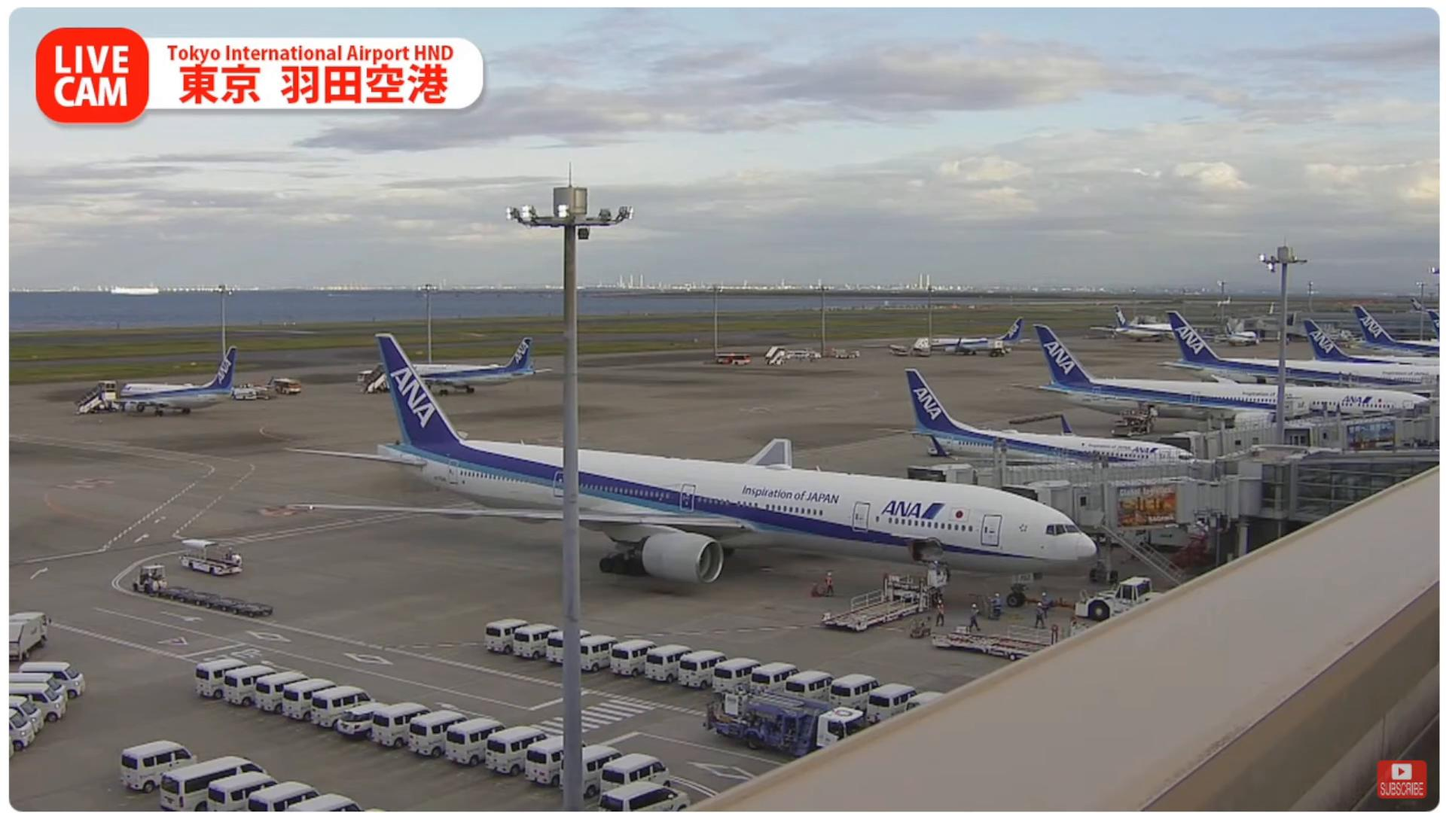APS: (1079, 573, 1169, 620)
Aerobridge: (937, 438, 1217, 490), (1025, 480, 1229, 535)
Airplane: (279, 328, 1098, 610)
Dolly: (154, 584, 285, 623)
JCPL: (821, 558, 944, 631), (944, 622, 1066, 653)
Skyloader: (173, 537, 252, 573)
Tractor: (129, 565, 167, 598)
Window: (1286, 455, 1435, 523)
